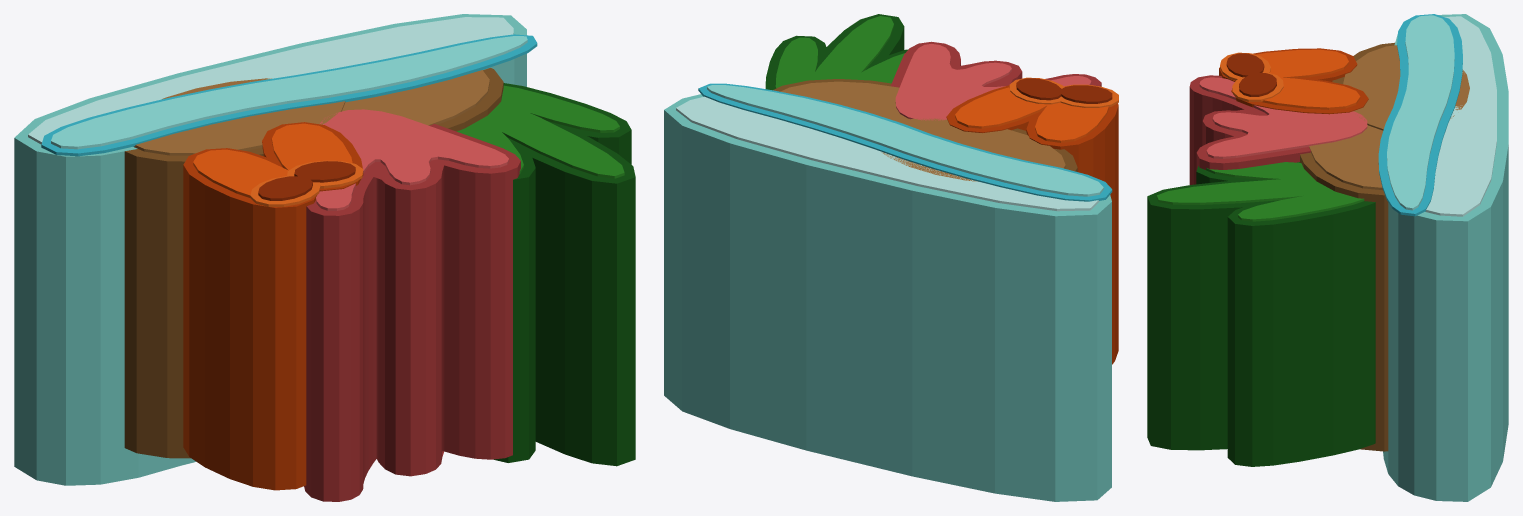
The model's file is bag_recife_coral.fbx.
The picture shows the model from 3 angles, left to right: view 1: azimuth 30°, elevation 25°; view 2: azimuth 150°, elevation 25°; view 3: azimuth 270°, elevation 25°; orthographic projection. The views are drawn at different scales.
Visible parts, largest first — view 1: bag_recife_coral_mochila; view 2: bag_recife_coral_mochila; view 3: bag_recife_coral_mochila.
Part boxes in pixels (left/top/right/bottom): bag_recife_coral_mochila: left=14, top=14, right=635, bottom=501; bag_recife_coral_mochila: left=664, top=14, right=1118, bottom=501; bag_recife_coral_mochila: left=1147, top=14, right=1508, bottom=501.
Bounding box in the file's own units: 2.91 × 1.9 × 2.15.
Materials: 1 (1 with a texture image).
